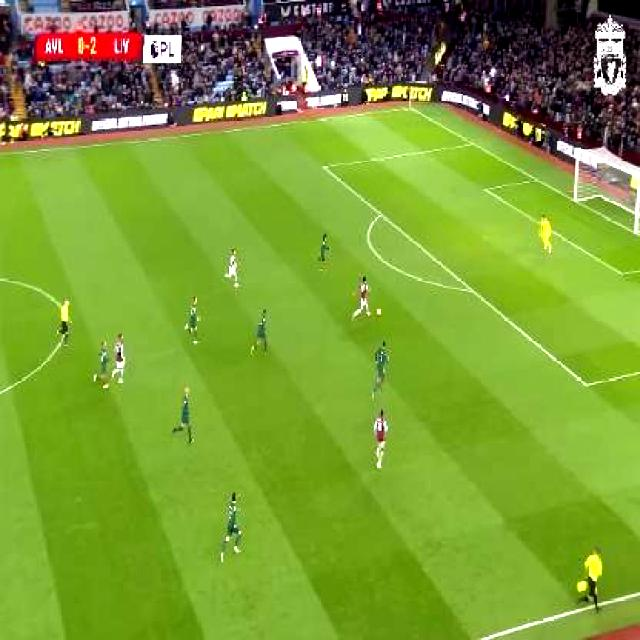bigarea_bottom_inner: (577, 372, 595, 394)
bigarea_top_inner: (315, 157, 331, 175)
bigarea_top_outter: (466, 135, 479, 151)
bottom_arc_area_intersection: (463, 278, 479, 300)
corner: (400, 101, 415, 114)
smallarea_bottom_inner: (612, 262, 630, 283)
smallarea_top_inner: (477, 180, 492, 198)
smallarea_top_outter: (528, 169, 543, 188)
top_arc_area_intersection: (372, 204, 386, 222)
